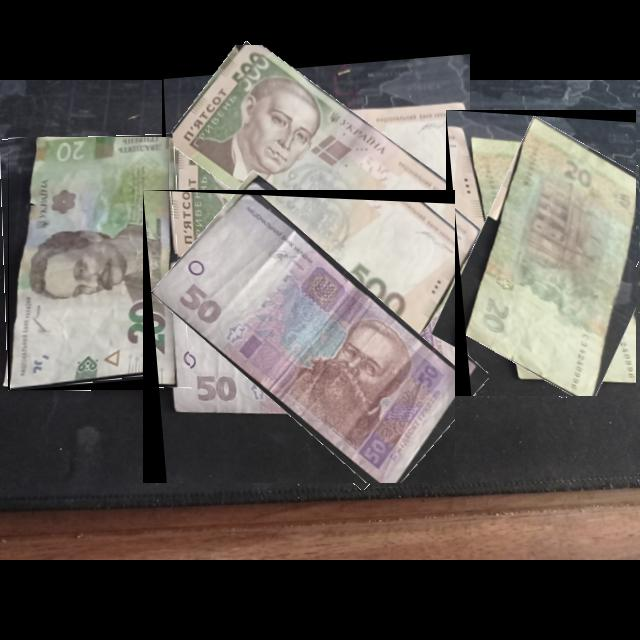20uah: (462, 116, 637, 397), (10, 137, 170, 391)
500uah: (166, 45, 471, 322)
50uah: (150, 194, 456, 484)
